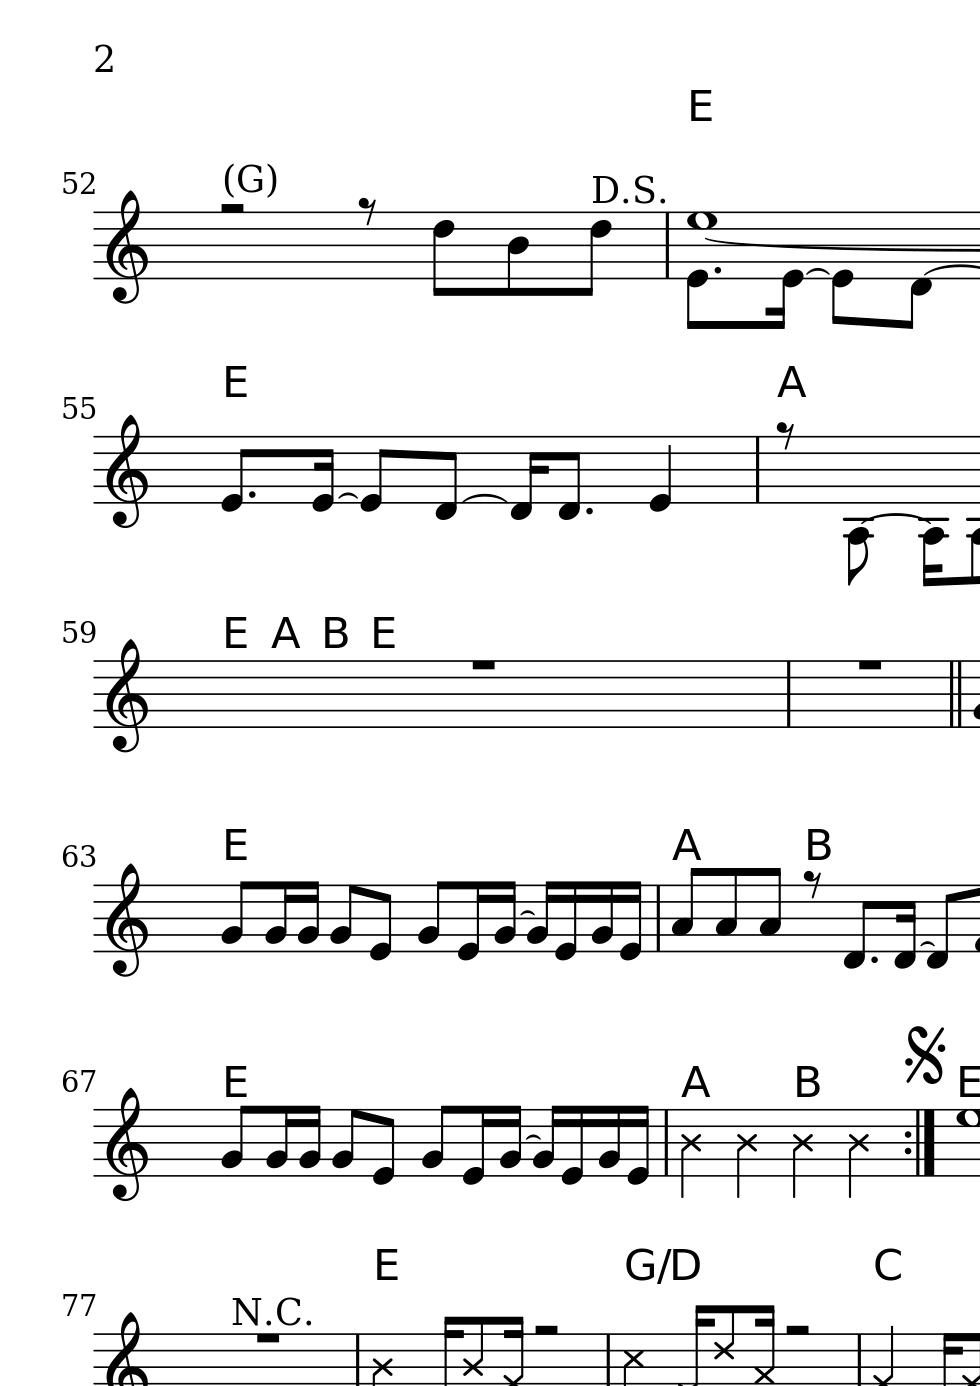16_-1: (509, 435, 546, 521)
16_-2: (891, 880, 917, 971)
16_-4: (918, 434, 950, 590)
16_0: (765, 207, 803, 332), (453, 879, 487, 963), (459, 1104, 492, 1188), (552, 878, 579, 963), (309, 434, 336, 515), (617, 879, 644, 963), (559, 1102, 585, 1186), (625, 1102, 650, 1186)
16_2: (530, 1103, 562, 1181), (524, 878, 556, 954), (263, 879, 293, 954), (264, 1104, 294, 1178), (590, 879, 615, 957), (596, 1104, 622, 1179), (492, 878, 517, 954), (296, 879, 320, 954), (298, 1104, 322, 1177), (498, 1103, 522, 1178)
2: (92, 42, 115, 74), (77, 170, 97, 197)
3: (78, 843, 97, 870)
4_0: (647, 434, 673, 514)
5: (78, 393, 97, 422), (60, 169, 77, 197), (60, 394, 78, 421), (62, 617, 77, 646)
6: (62, 1067, 78, 1095), (62, 842, 78, 870)
7: (78, 1291, 97, 1320), (80, 1067, 97, 1096), (62, 1289, 78, 1319)
8_-1: (902, 207, 932, 331), (840, 883, 872, 971), (431, 434, 461, 523), (556, 434, 582, 522)
8_-4: (843, 433, 873, 587)
8_0: (924, 882, 956, 970), (830, 209, 854, 327), (357, 434, 391, 514), (218, 434, 251, 514), (367, 882, 393, 964), (370, 1107, 397, 1189)
8_2: (414, 879, 447, 954), (218, 879, 251, 953), (218, 1104, 251, 1177), (419, 1104, 451, 1178), (327, 882, 358, 954), (330, 1107, 361, 1178)
8_3: (669, 867, 703, 955), (712, 866, 740, 954), (756, 866, 782, 954)
8_4: (504, 209, 530, 300)
8_6: (578, 210, 612, 300), (430, 209, 455, 300)
9: (78, 618, 97, 646)
DS: (590, 174, 666, 206)
Double_barline: (944, 660, 967, 729)
Gclef: (104, 413, 150, 530), (104, 188, 148, 306), (104, 637, 148, 754), (104, 861, 148, 978), (104, 1087, 148, 1203)
Rests1: (467, 655, 500, 676), (251, 1330, 284, 1347), (854, 656, 883, 673)
Rests2: (782, 1320, 813, 1341), (215, 200, 250, 220), (531, 1320, 561, 1340)
Rests8: (801, 869, 827, 900), (355, 191, 378, 226), (774, 418, 797, 450)
RightRepeatSign: (902, 1109, 939, 1176)
Segno: (902, 1025, 948, 1081)
Single_barline: (780, 661, 797, 727), (659, 213, 676, 279), (657, 1110, 673, 1176), (649, 885, 665, 952), (749, 437, 765, 502)
Slur: (463, 494, 504, 504), (804, 268, 830, 277), (335, 492, 358, 501), (518, 910, 537, 917), (524, 1134, 542, 1141)
dot: (711, 264, 725, 278), (583, 504, 595, 517), (246, 488, 257, 501), (868, 954, 879, 965)
